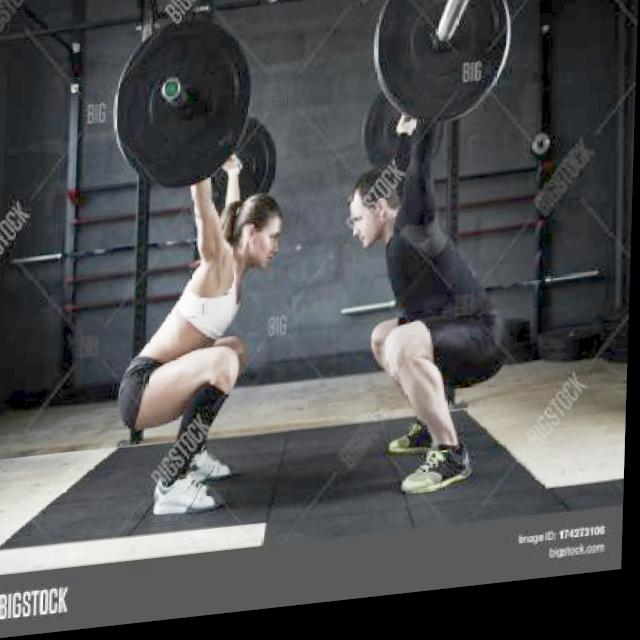barbell: (103, 10, 265, 212), (371, 1, 517, 147)
